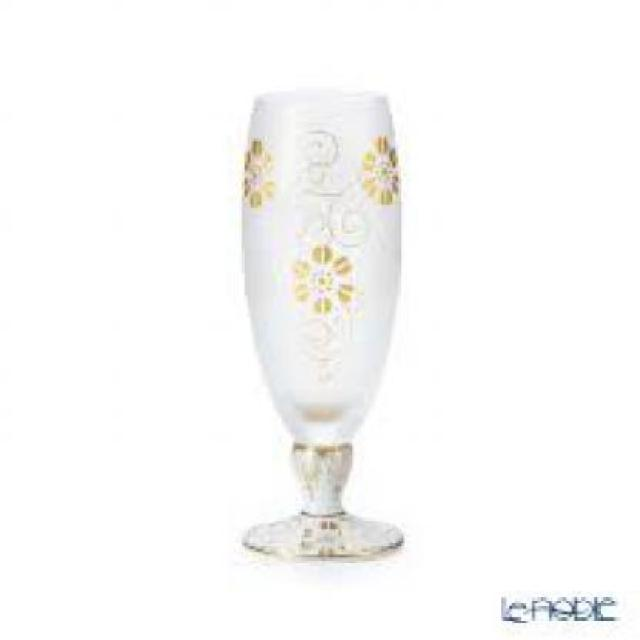kaca: (240, 91, 405, 560)
